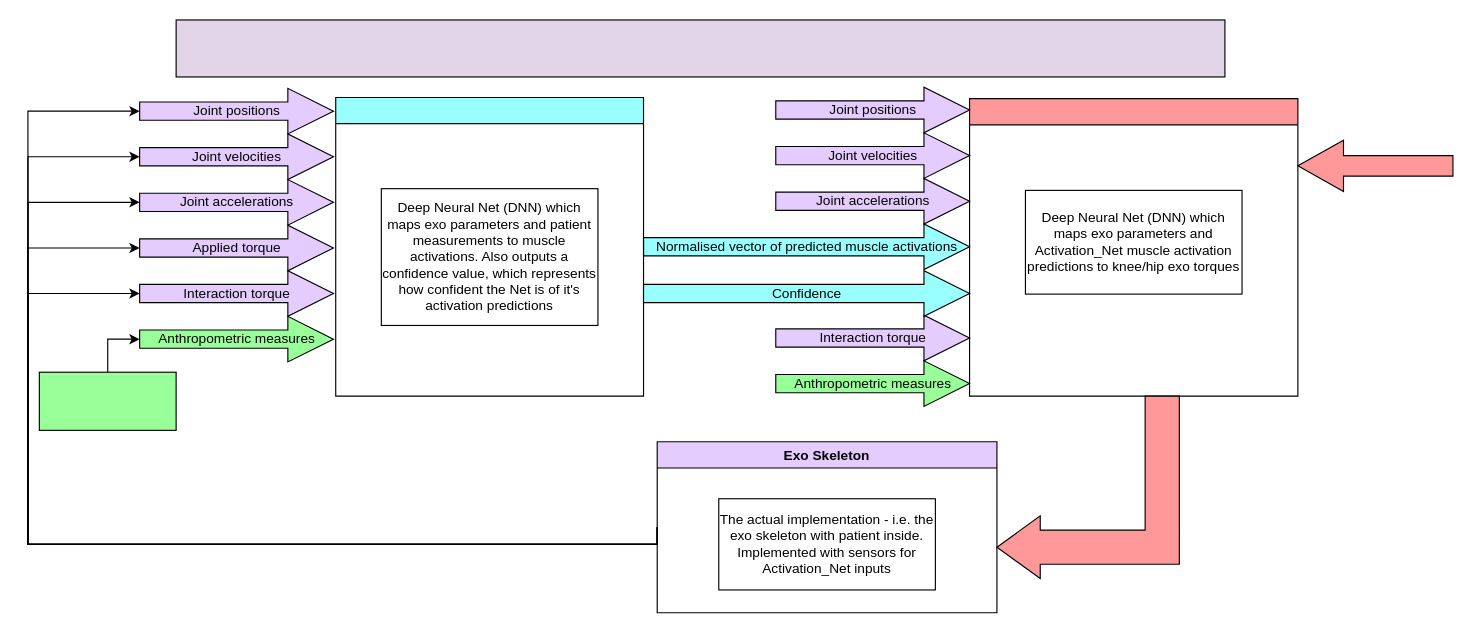
This 1473x633 diagram has some shape labels left out. The box of each missing label's shape, as (x1, y1, x2, y2) in pixels:
Activation_Net: (335, 96, 644, 396)
Implementation: (175, 19, 1225, 77)
Joint Torques: (996, 395, 1179, 579)
Physiotherapist (configured at beginning of session): (38, 371, 176, 430)
Time Reference: (1297, 139, 1453, 192)
Torque_Actor: (968, 97, 1298, 396)
